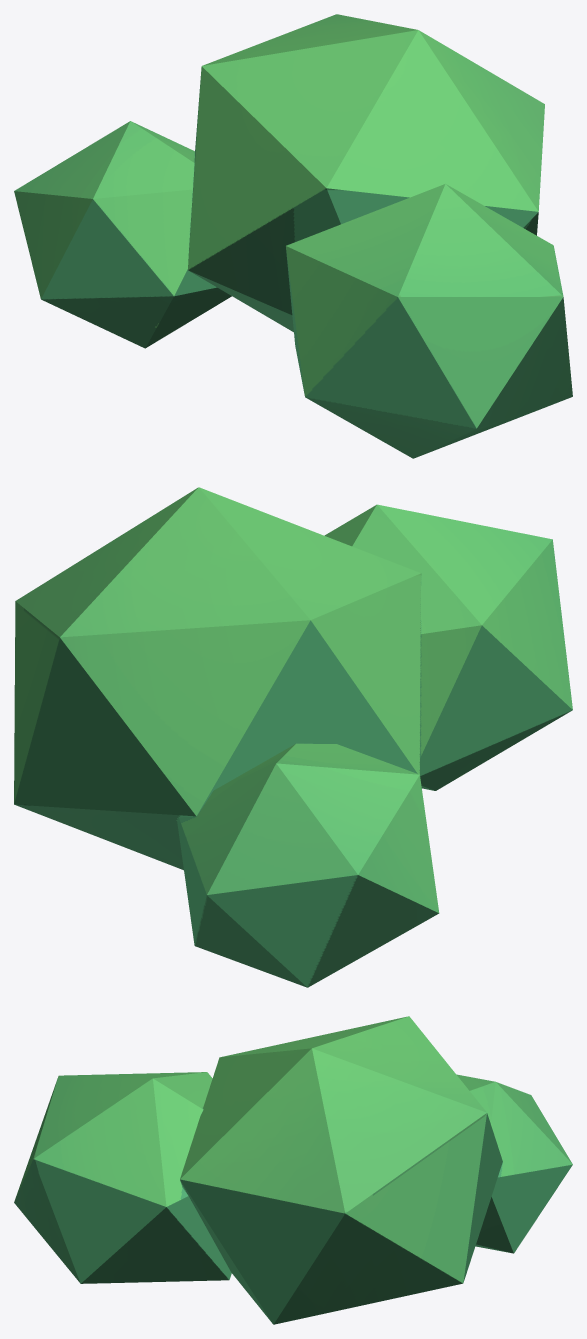
File: Small Bush.fbx
The picture shows the model from 3 angles, top to bottom: view 1: azimuth 30°, elevation 25°; view 2: azimuth 150°, elevation 25°; view 3: azimuth 270°, elevation 25°; orthographic projection. The views are drawn at different scales.
Visible parts, largest first — view 1: Small Bush; view 2: Small Bush; view 3: Small Bush.
Boxes of the visible parts, left/top/right/bottom form: Small Bush: left=14, top=14, right=572, bottom=458; Small Bush: left=14, top=487, right=572, bottom=987; Small Bush: left=14, top=1016, right=572, bottom=1324.
Bounding box in the file's own units: 251 × 176 × 324.
